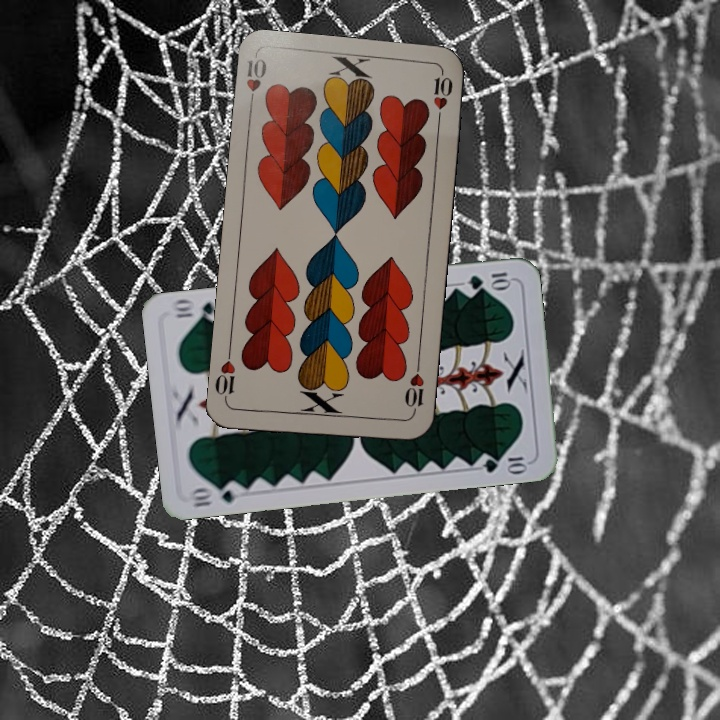G10: (187, 478, 246, 510), (464, 268, 514, 293)
H10: (242, 54, 270, 112), (400, 359, 427, 418)
